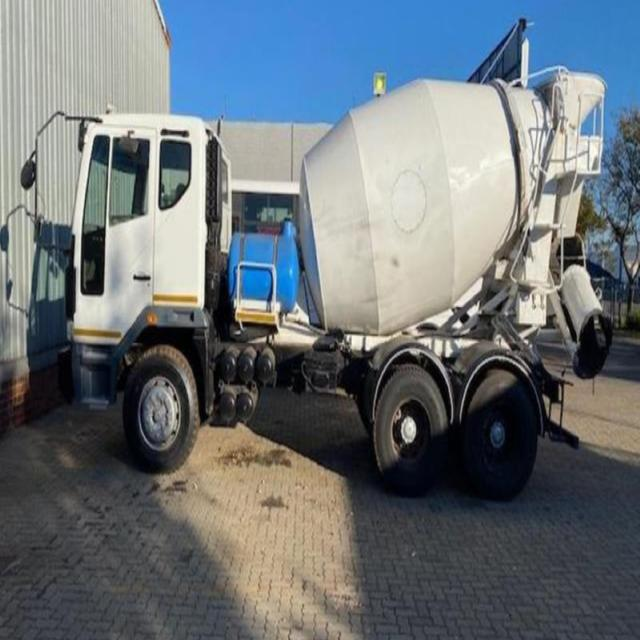Mixer Truck: (65, 71, 611, 504)
